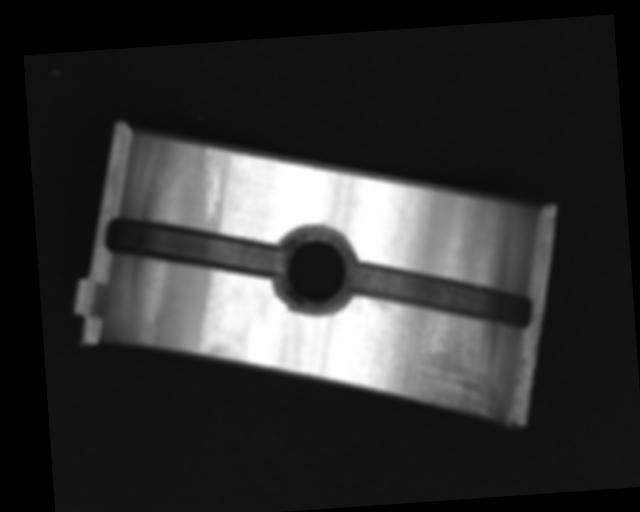gap: (347, 250, 533, 337), (102, 205, 288, 285)
hole: (268, 220, 362, 321)
nick: (201, 142, 223, 225)
scratch: (369, 290, 504, 427)
